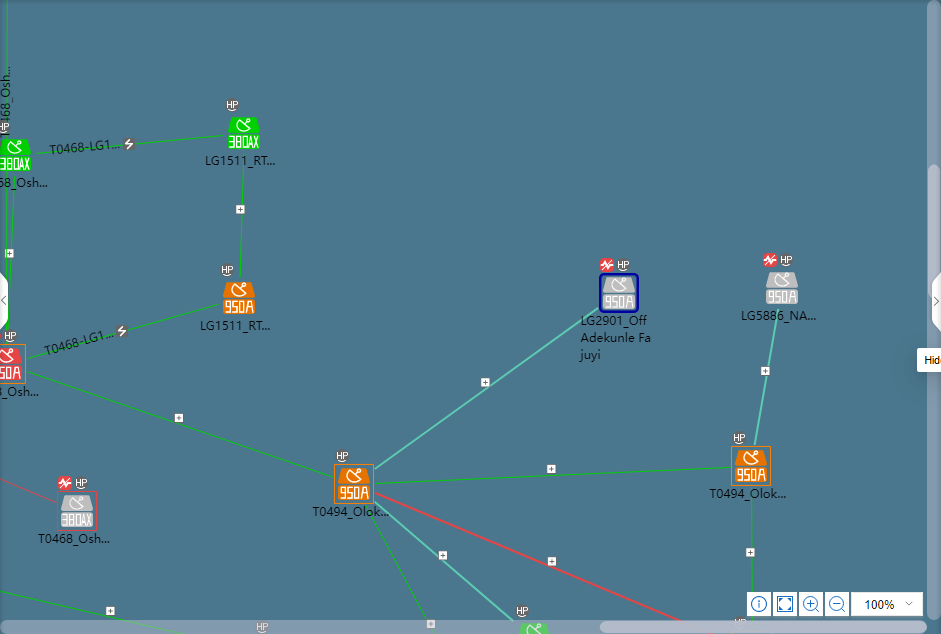Link_Blue: (373, 307, 599, 471), (374, 501, 515, 623), (752, 308, 781, 445)
Link_Green: (27, 370, 334, 480), (26, 303, 218, 362), (364, 506, 437, 634), (0, 590, 184, 634), (375, 466, 729, 484), (36, 133, 224, 155), (7, 176, 16, 330), (239, 154, 245, 279), (749, 487, 754, 592), (5, 0, 8, 136), (5, 172, 8, 282)
Link_Red: (375, 489, 686, 620)
RTN_Gray: (600, 275, 637, 311), (60, 495, 92, 529), (766, 273, 797, 304)
RTN_Green: (228, 117, 259, 149), (0, 139, 30, 171)
RTN_Orange: (732, 450, 767, 485), (336, 469, 370, 502), (223, 282, 254, 314)
